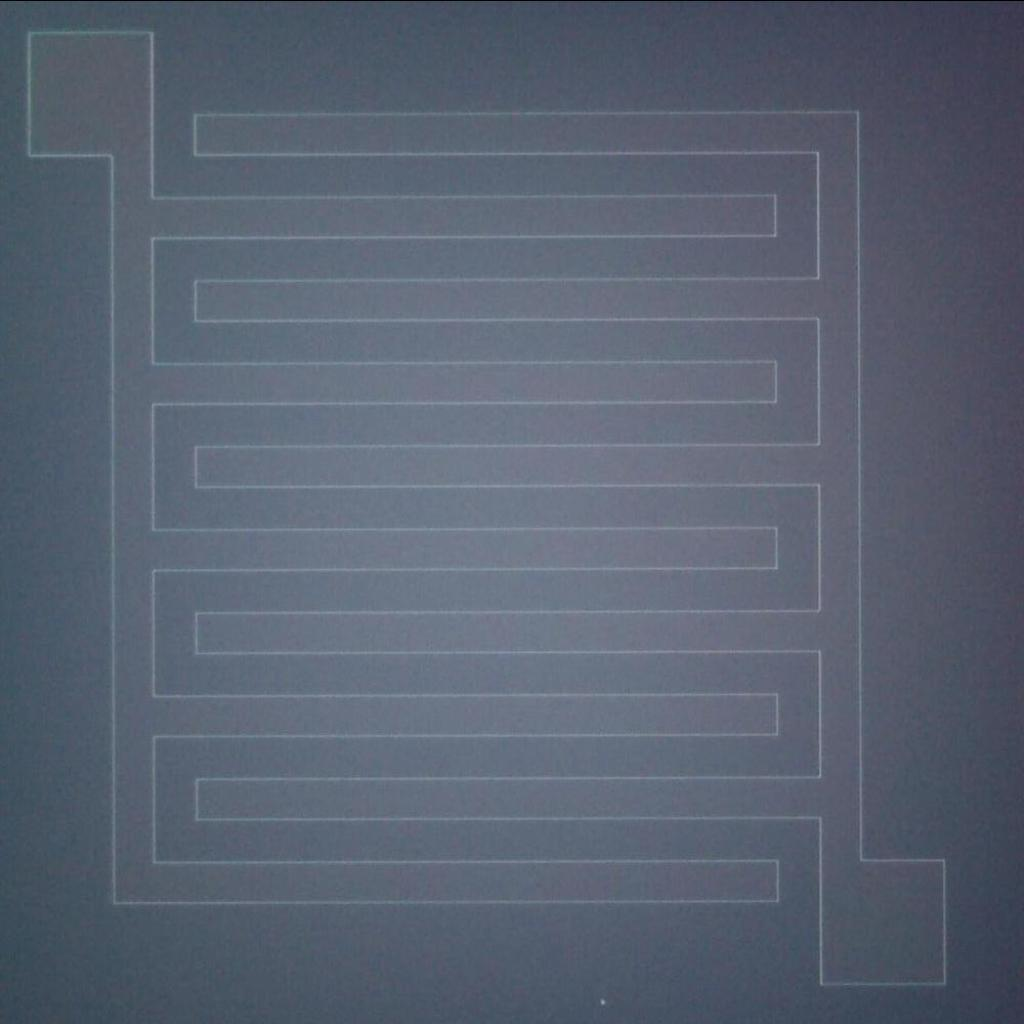dot: (589, 990, 613, 1010)
